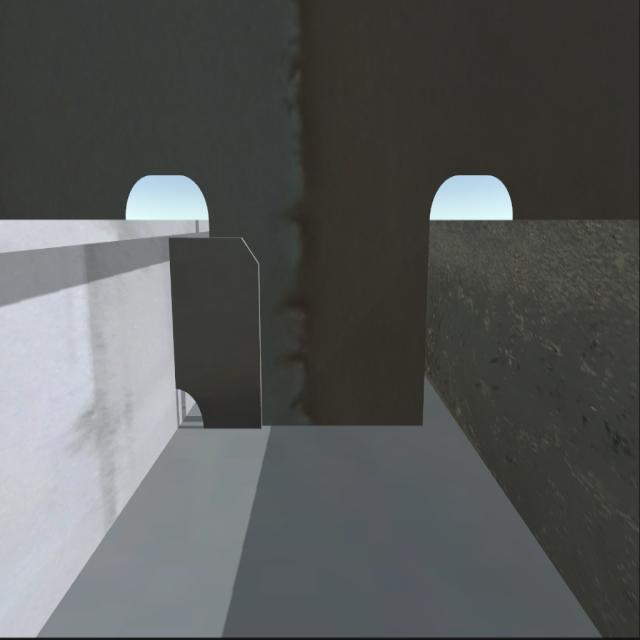fillet_hole: (172, 376, 214, 434)
fillet_yong_jeop_jang: (201, 414, 426, 434)
longi_yong_jeop_jang: (174, 233, 262, 428), (168, 232, 189, 388)
